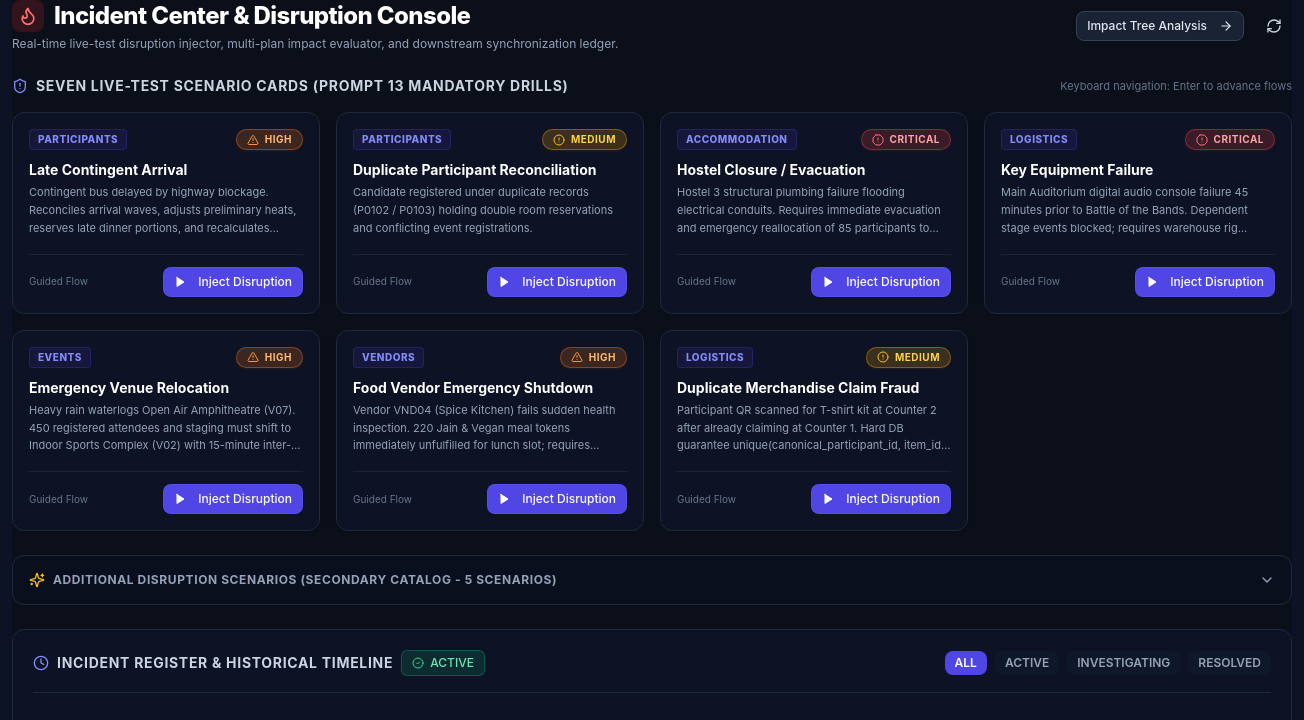
Test case: Incident Management & Disruption Workspaces (Prompt 15) › Incident Center & Disruption Console › renders all seven mandatory scenario cards plus extras accordion
The width and height of the screenshot is (1304, 720).
Expected: the element with test id "scenario-card-late_contingent" is shown, [12,112,320,314]
Expected: the element with test id "scenario-card-duplicate_participant" is shown, [336,112,644,314]
Click the button with test id "toggle-extras-btn" at (305, 580), box [29,572,1275,588]
(page scrolled)
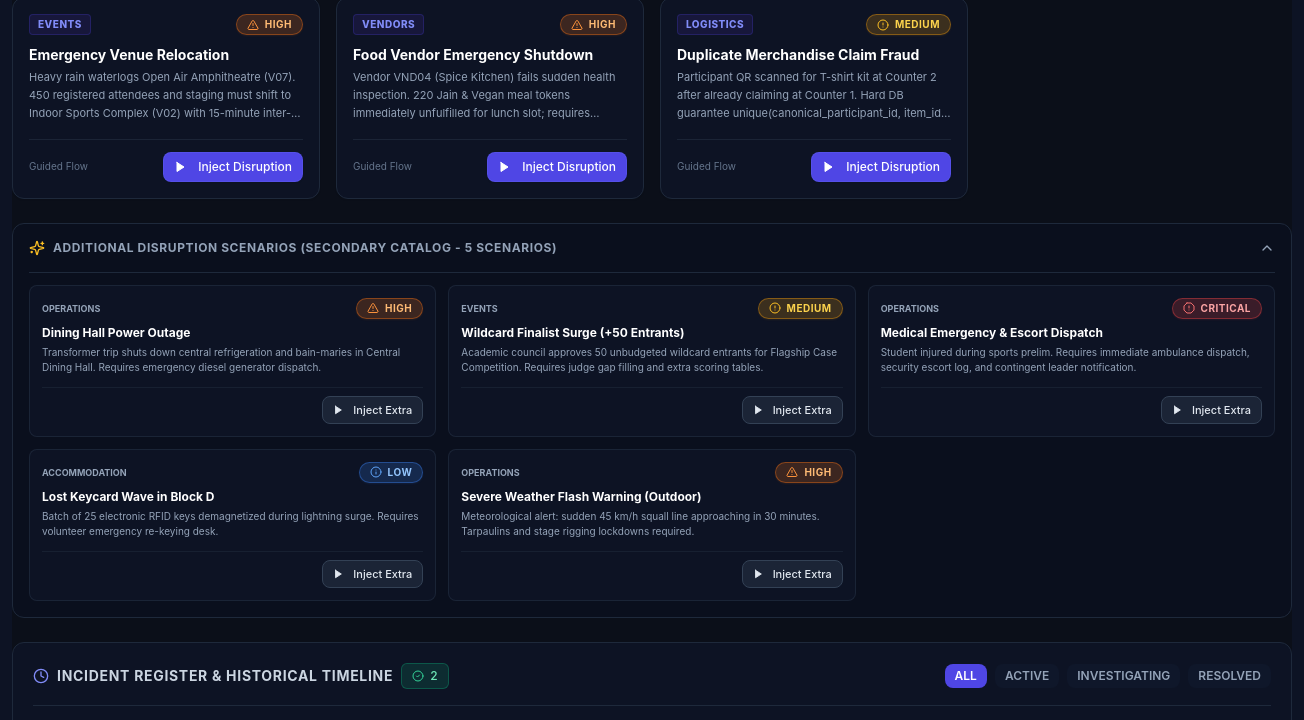
Now the element with test id "scenario-extra-dining_power_outage" is shown, box [29,285,436,437]
